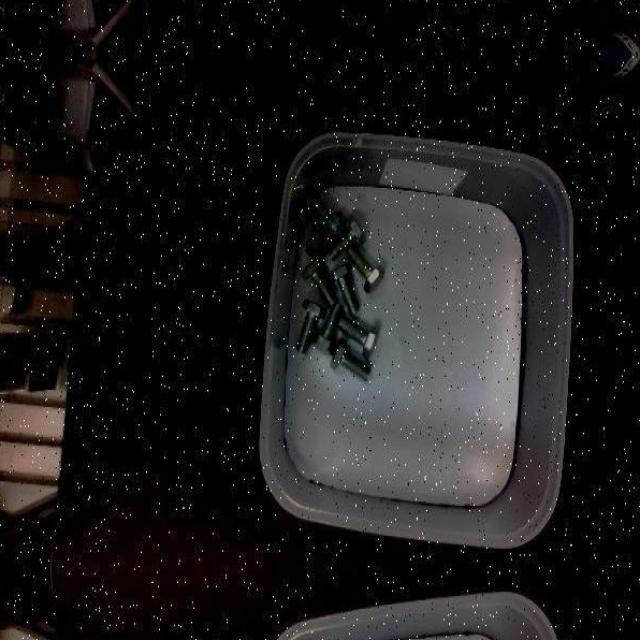screw: (307, 192, 346, 241), (301, 255, 337, 308), (346, 242, 384, 292), (337, 315, 379, 359), (310, 302, 344, 355), (330, 336, 370, 381), (328, 215, 366, 262), (328, 261, 360, 315), (296, 298, 326, 352)
